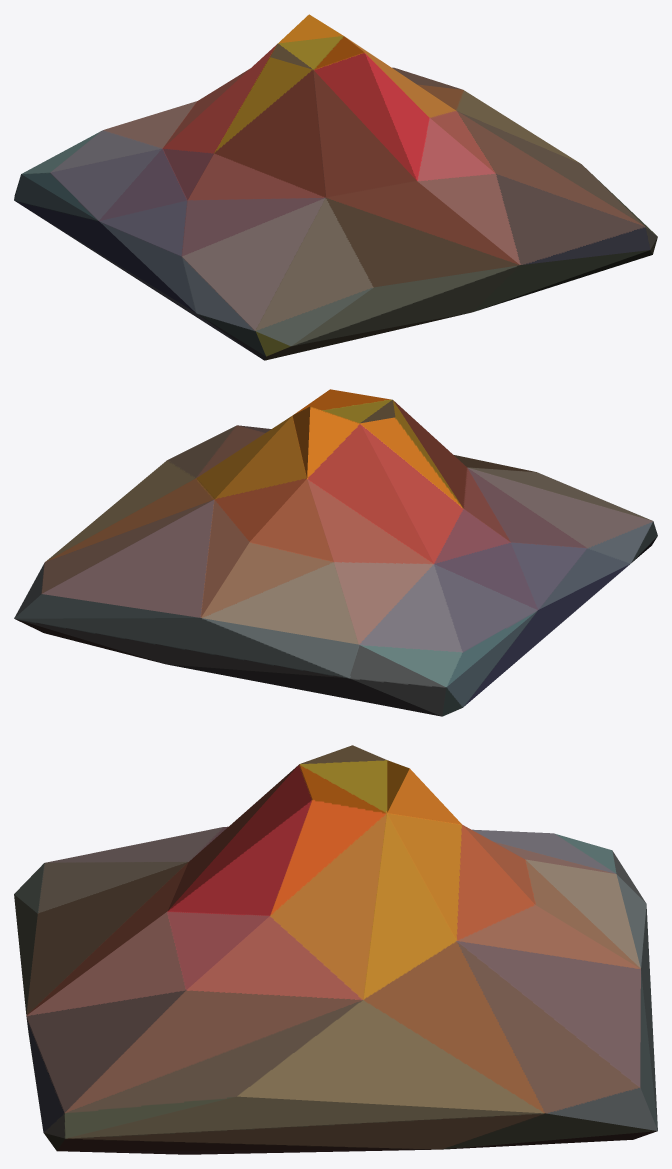
File: volcano.fbx
The picture shows the model from 3 angles, top to bottom: view 1: azimuth 30°, elevation 25°; view 2: azimuth 150°, elevation 25°; view 3: azimuth 270°, elevation 25°; orthographic projection. The views are drawn at different scales.
Visible parts, largest first — view 1: Mesh_0; view 2: Mesh_0; view 3: Mesh_0.
Boxes of the visible parts, <box> form: Mesh_0: <box>14,14,657,360</box>; Mesh_0: <box>14,389,657,716</box>; Mesh_0: <box>14,745,657,1154</box>.
Size of the model in its own units: 118 by 55.93 by 115.
Materials: 1 (1 with a texture image).
